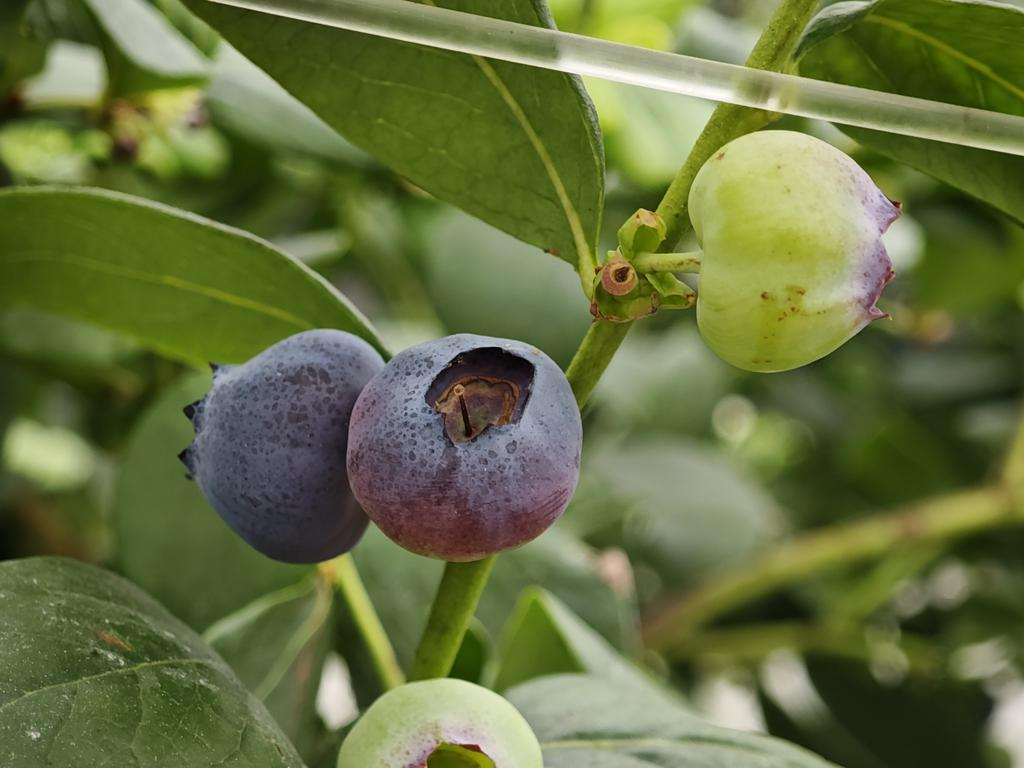RipeBlueBerry: (184, 332, 371, 568)
Semi-RipeBlueBerry: (346, 331, 580, 556)
UnripeBlueBerry: (690, 129, 892, 372)
